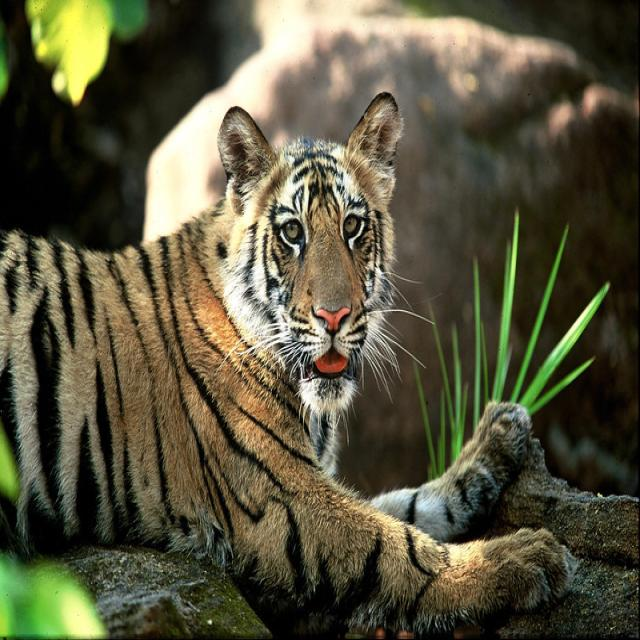Tiger: (0, 86, 518, 604)
